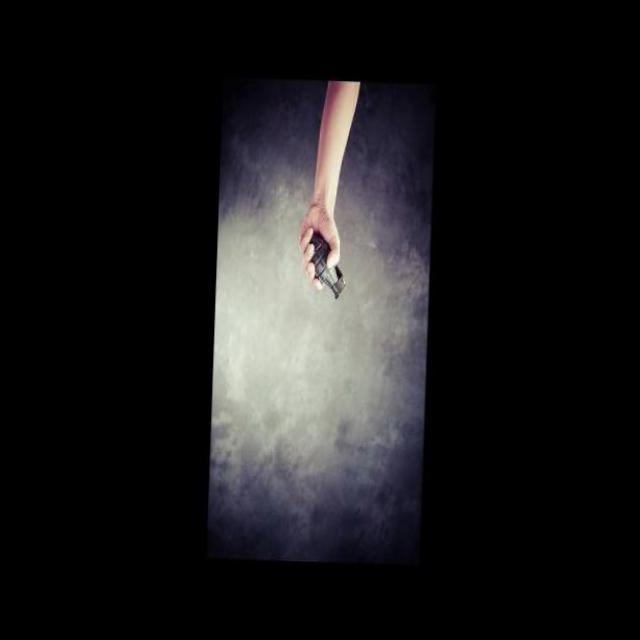grenade: (304, 226, 354, 308)
